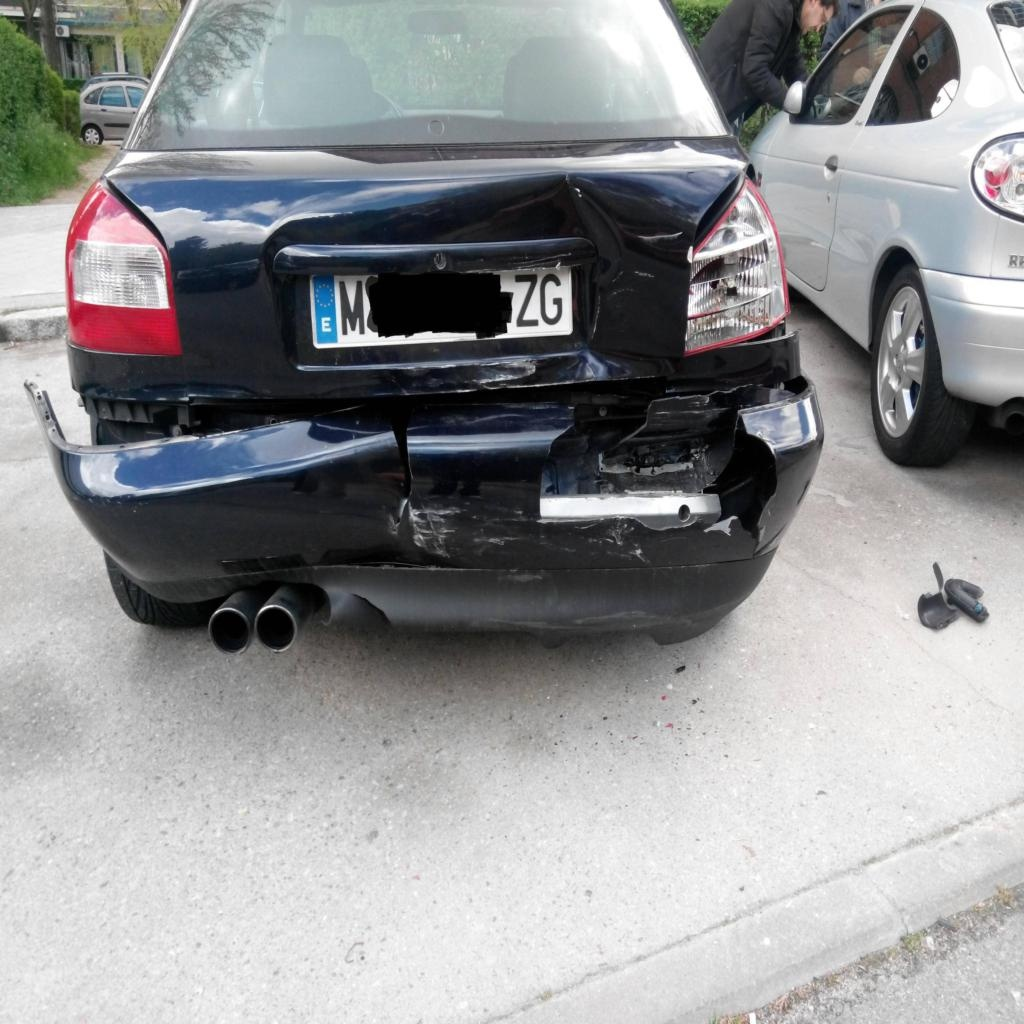Broken-glass: (681, 181, 785, 347)
Dent: (327, 175, 690, 386)
Smashed: (35, 383, 831, 635), (380, 501, 517, 558)
